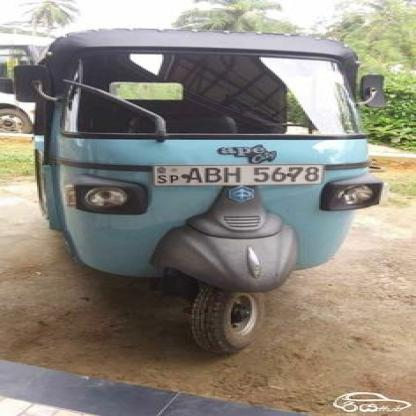number plate: (151, 164, 328, 186)
three wheeler front: (8, 24, 387, 354)
